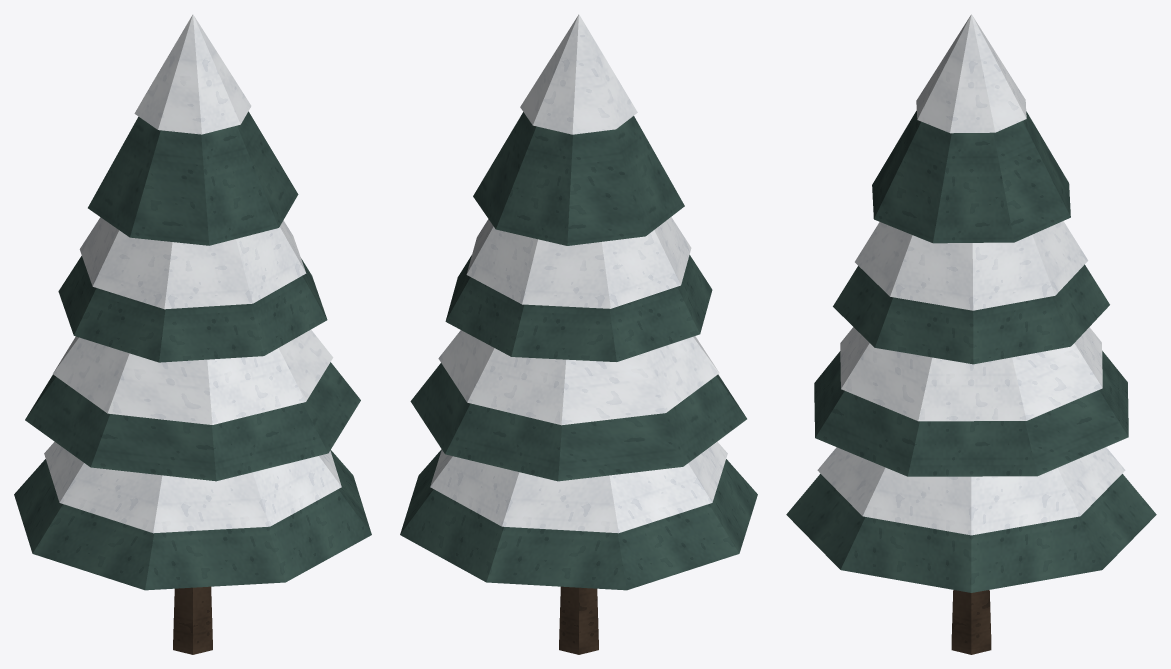
Rendered from snowpine_tree_a.glb.
3 renders of one model, left to right at view 1: azimuth 30°, elevation 25°; view 2: azimuth 150°, elevation 25°; view 3: azimuth 270°, elevation 25°, orthographic.
Visible parts, largest first — view 1: SnowpineTreeA; view 2: SnowpineTreeA; view 3: SnowpineTreeA.
Part boxes in pixels (x1,y1,x2,y2): SnowpineTreeA: [14, 14, 371, 654]; SnowpineTreeA: [400, 14, 757, 654]; SnowpineTreeA: [786, 14, 1156, 654].
Size of the model in its own units: 3.17 by 5.96 by 3.17.
Materials: 3 (3 with a texture image).
